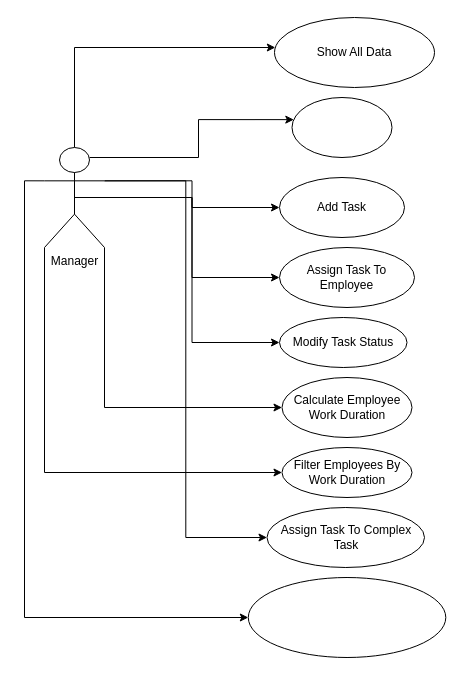
Some shapes in this 464 by 675 pixel diagram are drawn without their labels. The shapes that lost their labels are listed below. From the top down, each one's centre as x and y in pixels, then its label:
(x=341, y=127): Add Employee
(x=346, y=617): Show Number Of Completed And Uncompleted Tasks Of Employee
